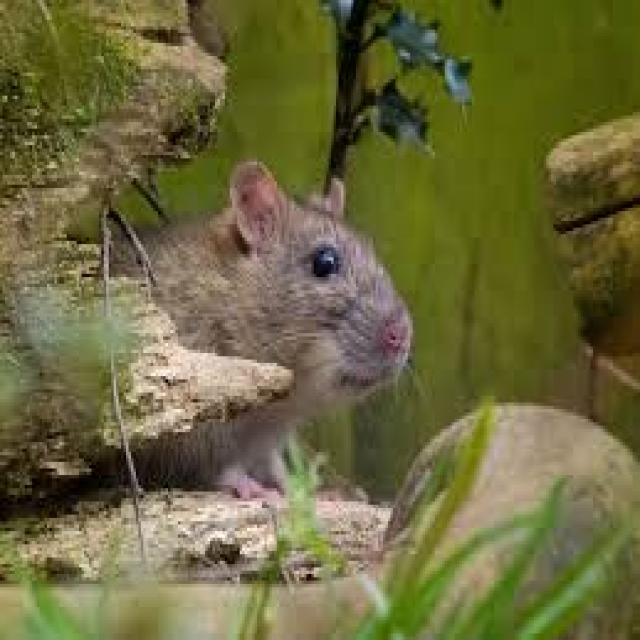Rat: (176, 118, 483, 514)
